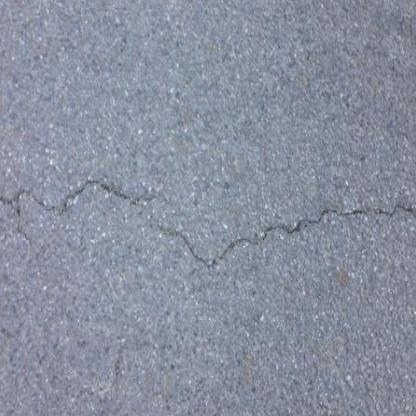Cracks: (0, 162, 416, 277)
